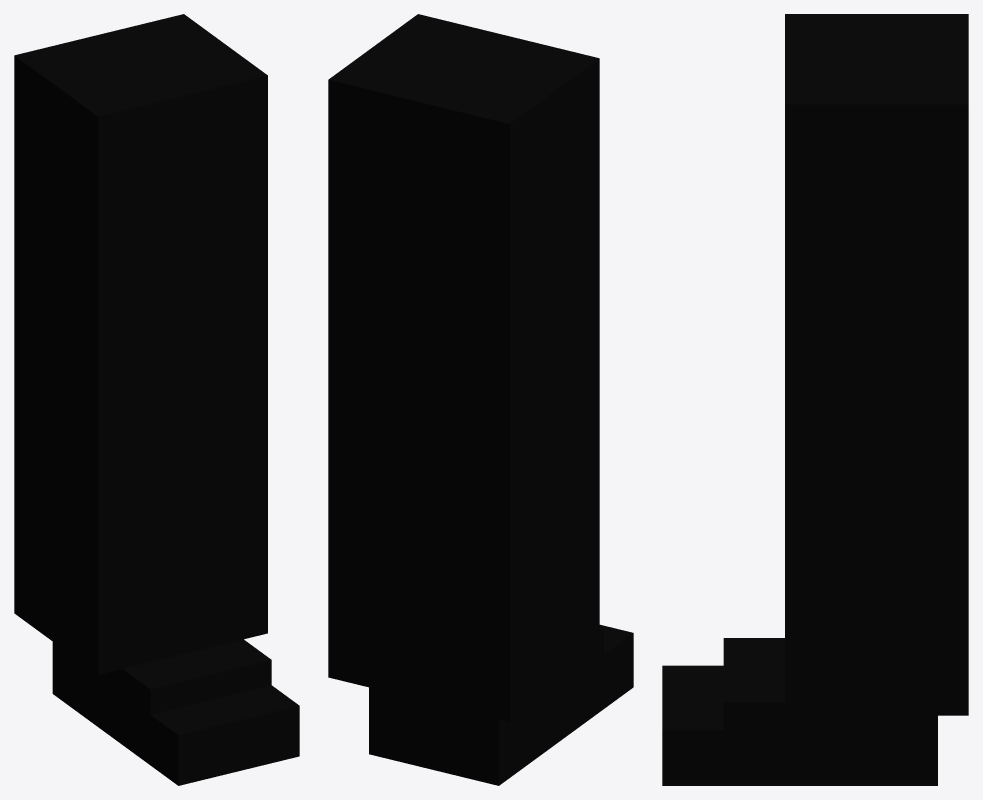
The model's file is pierna.obj.
3 renders of one model, left to right at view 1: azimuth 30°, elevation 25°; view 2: azimuth 150°, elevation 25°; view 3: azimuth 270°, elevation 25°, orthographic. The views are drawn at different scales.
Parts seen in each view (by area): view 1: pierna; view 2: pierna; view 3: pierna.
Boxes of the visible parts, x1,y1,x2,y2 form: pierna: (14, 14, 299, 785); pierna: (328, 14, 633, 785); pierna: (662, 14, 968, 785).
Size of the model in its own units: 0.7 by 2.5 by 1.
Materials: 1 (1 with a texture image).
